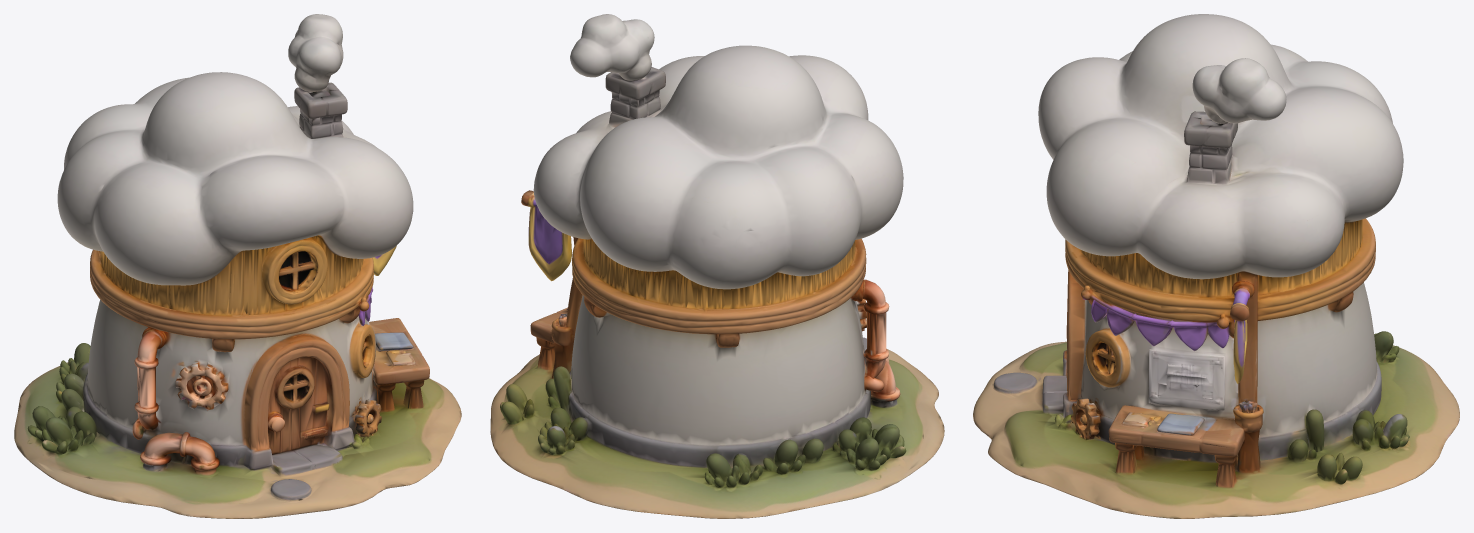
The model's file is cloud-core-workshop-1.glb.
The picture shows the model from 3 angles, left to right: view 1: azimuth 30°, elevation 25°; view 2: azimuth 150°, elevation 25°; view 3: azimuth 270°, elevation 25°; orthographic projection. The views are drawn at different scales.
Visible parts, largest first — view 1: node_0; view 2: node_0; view 3: node_0.
Part boxes in pixels (<box>): node_0: <box>14,14,461,518</box>; node_0: <box>490,14,944,518</box>; node_0: <box>973,14,1459,518</box>.
Size of the model in its own units: 0.8786 by 0.8093 by 0.8822.
Materials: 1 (1 with a texture image).
